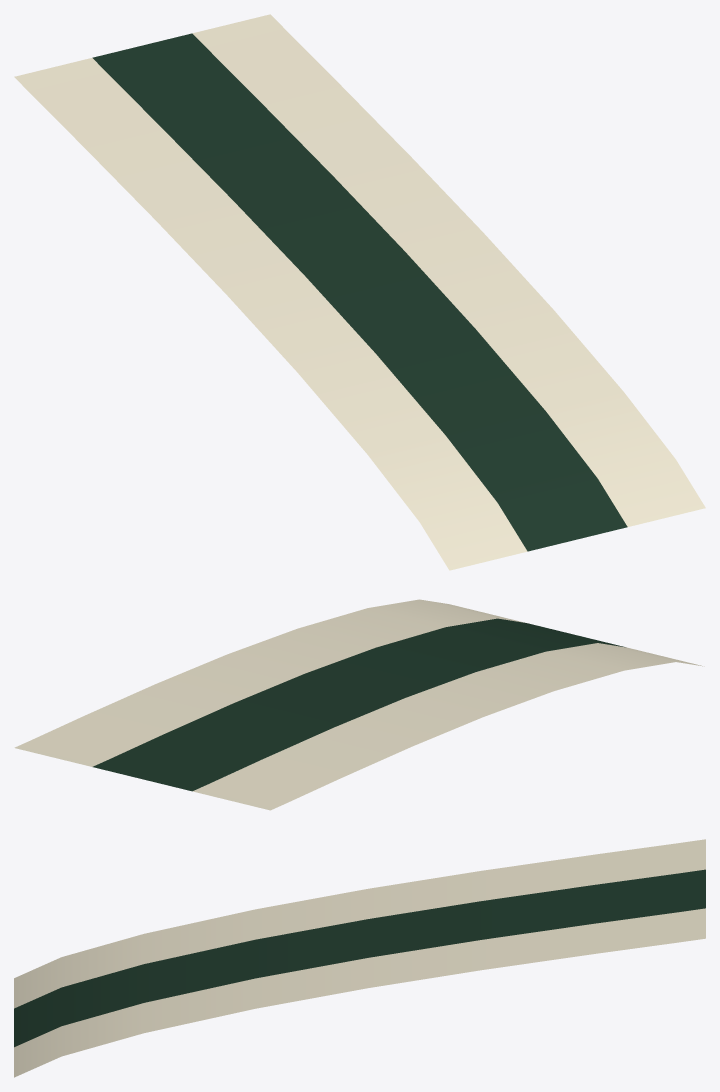
File: stripe_damd_center__spoiler_damd_wing13.glb
The picture shows the model from 3 angles, top to bottom: view 1: azimuth 30°, elevation 25°; view 2: azimuth 150°, elevation 25°; view 3: azimuth 270°, elevation 25°; orthographic projection. The views are drawn at different scales.
Parts seen in each view (by area): view 1: bandwing-16.001, bandwing-41.001, bandwing16.001; view 2: bandwing-16.001, bandwing16.001, bandwing-41.001; view 3: bandwing-16.001, bandwing-41.001, bandwing16.001.
Part boxes in pixels (x1,y1,x2,y2): bandwing-16.001: [92, 33, 627, 551]; bandwing-41.001: [14, 58, 527, 570]; bandwing16.001: [192, 14, 705, 526]; bandwing-16.001: [93, 618, 625, 791]; bandwing16.001: [14, 599, 525, 766]; bandwing-41.001: [193, 643, 704, 810]; bandwing-16.001: [14, 869, 705, 1047]; bandwing-41.001: [14, 839, 705, 1008]; bandwing16.001: [14, 908, 705, 1077].
Bounding box in the file's own units: 0.082 × 0.0535 × 0.2412.
